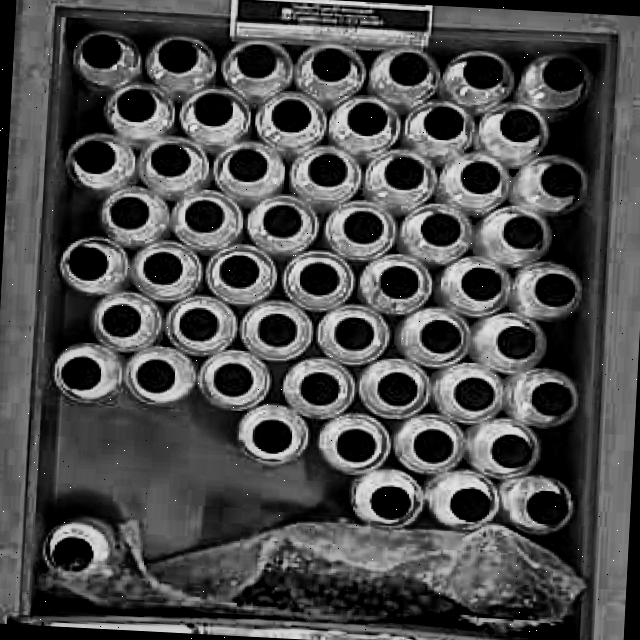vial: (525, 488, 571, 529), (334, 426, 379, 466), (531, 378, 574, 417), (368, 484, 413, 521), (448, 485, 494, 521), (378, 263, 424, 299), (489, 432, 531, 471), (412, 427, 456, 464), (134, 359, 178, 396), (418, 318, 462, 355), (457, 266, 502, 302), (451, 377, 496, 413), (497, 108, 544, 142), (211, 360, 254, 397), (252, 419, 296, 455), (72, 139, 117, 174), (375, 372, 420, 407), (542, 57, 585, 93), (101, 302, 144, 338), (344, 102, 389, 136), (61, 354, 102, 391), (494, 325, 536, 361), (81, 32, 121, 69), (270, 98, 312, 133), (300, 261, 342, 296), (461, 56, 504, 90), (533, 273, 576, 307), (218, 254, 259, 289), (68, 247, 109, 282), (157, 39, 199, 73), (182, 202, 226, 234), (424, 106, 464, 141), (142, 252, 182, 287), (52, 537, 92, 572), (461, 160, 502, 194), (382, 157, 423, 191), (261, 205, 303, 238), (420, 214, 462, 247), (150, 145, 193, 177), (298, 373, 341, 405), (311, 47, 349, 83), (502, 216, 541, 251), (541, 163, 581, 197), (343, 211, 383, 245), (256, 314, 296, 348), (308, 153, 349, 186), (333, 316, 374, 349), (225, 149, 267, 181), (272, 98, 310, 133), (193, 94, 233, 127), (388, 54, 429, 86), (107, 197, 148, 229), (238, 44, 277, 77), (179, 309, 219, 341), (116, 91, 155, 122)
